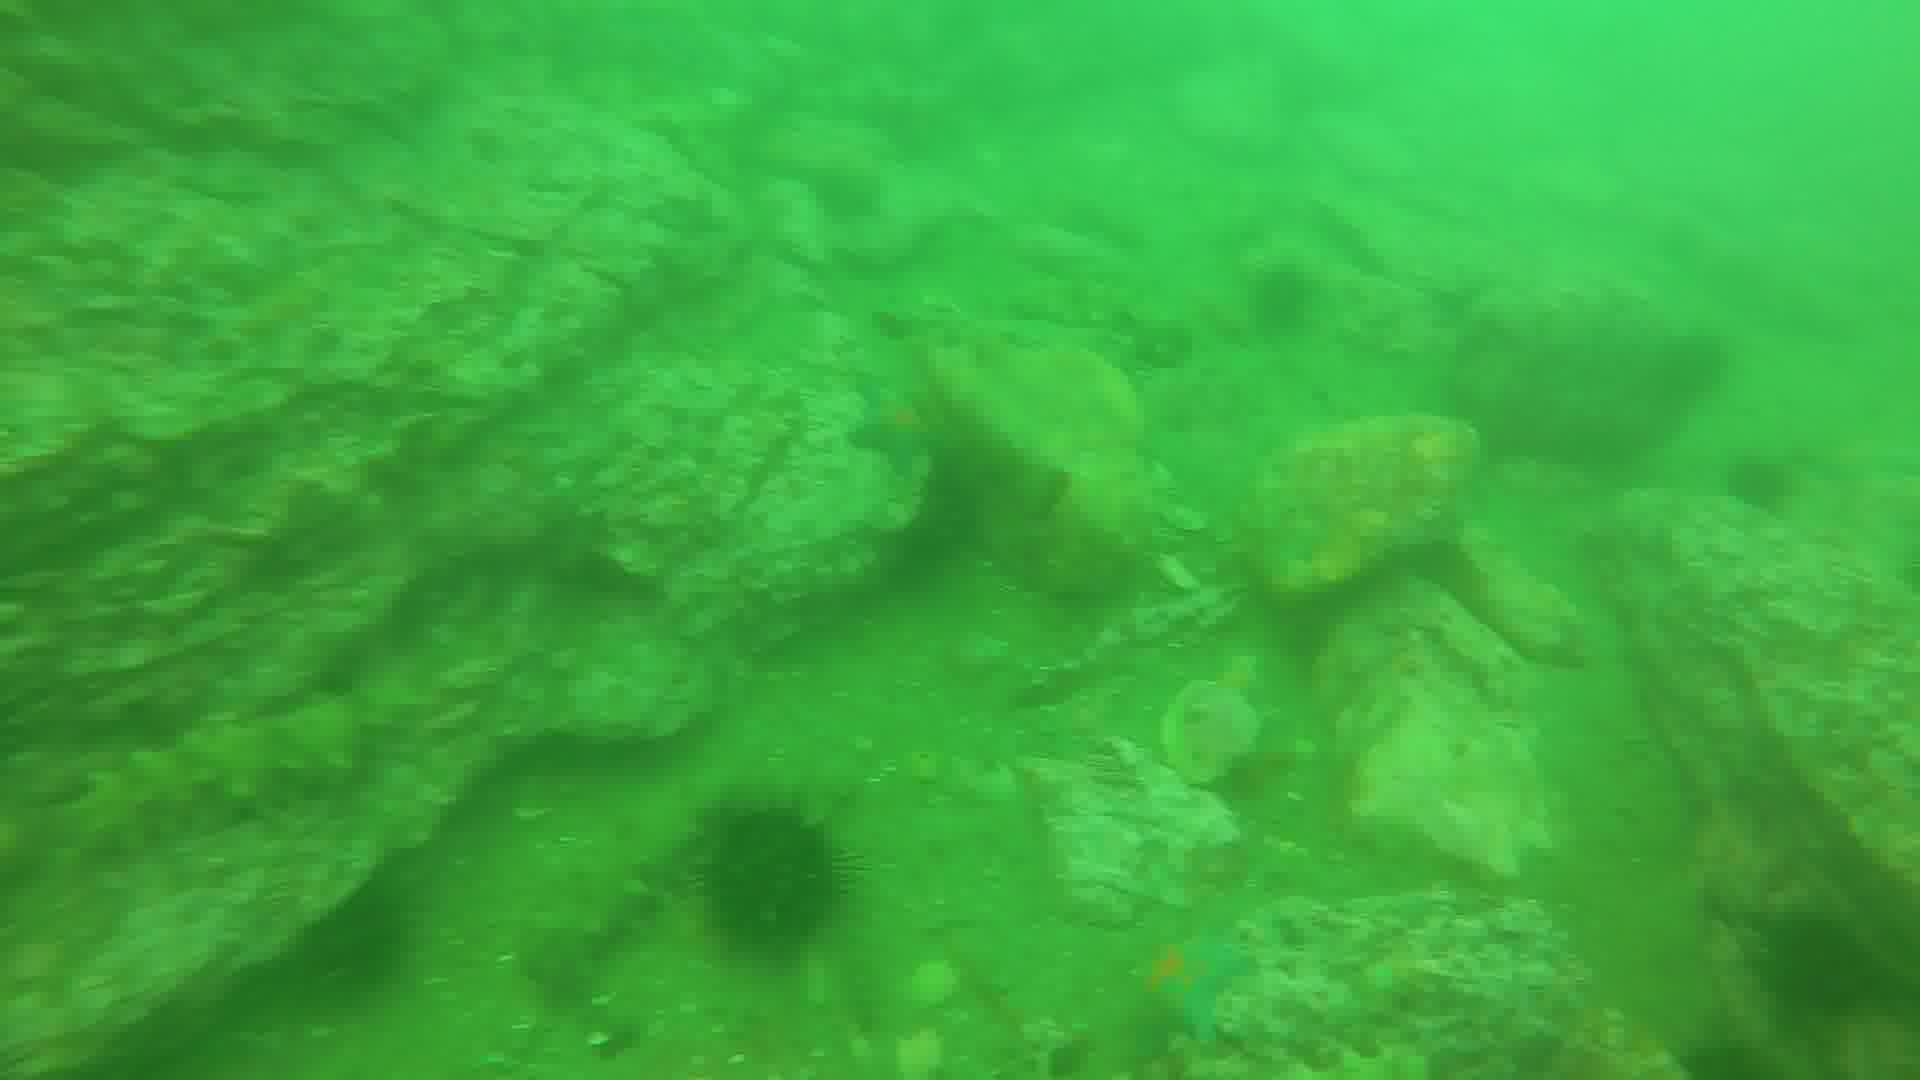echinus: (699, 798, 837, 957), (1774, 899, 1880, 1033), (1710, 439, 1789, 531)
starfish: (1102, 916, 1251, 1062)
